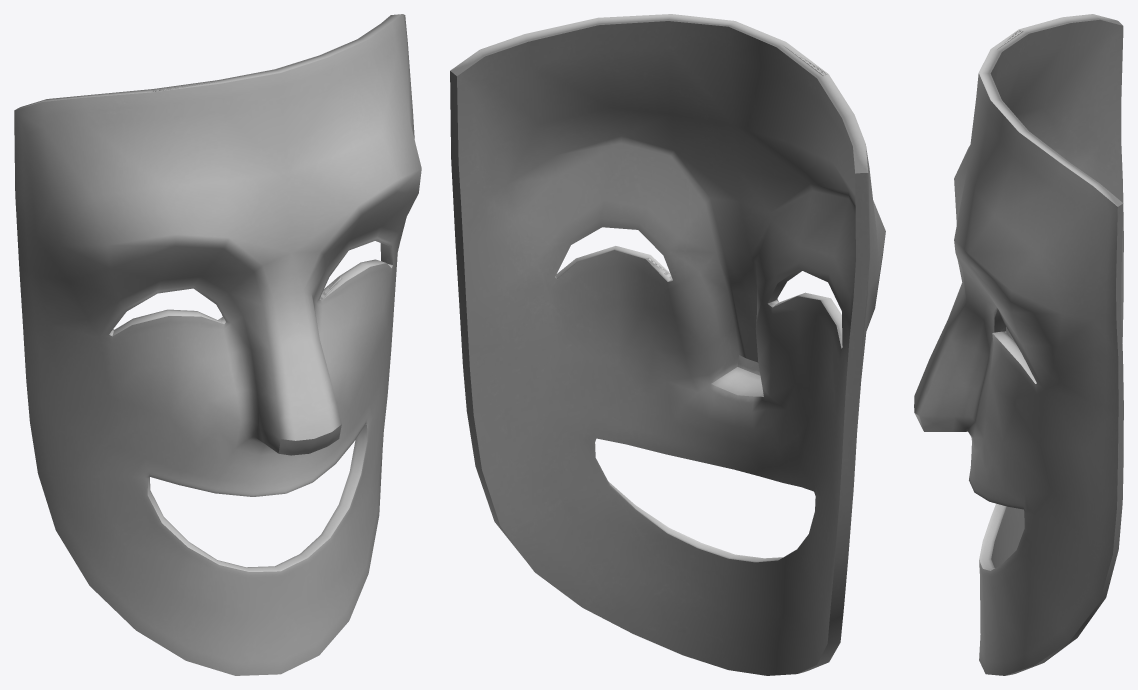
Rendered from CanbePossessedIndicator.fbx.
3 views of the same model, side by side, from view 1: azimuth 30°, elevation 25°; view 2: azimuth 150°, elevation 25°; view 3: azimuth 270°, elevation 25° (orthographic). The views are drawn at different scales.
Parts seen in each view (by area): view 1: CanbePossessedIndicator; view 2: CanbePossessedIndicator; view 3: CanbePossessedIndicator.
Part boxes in pixels (x1,y1,x2,y2): CanbePossessedIndicator: [14, 14, 421, 675]; CanbePossessedIndicator: [450, 14, 885, 675]; CanbePossessedIndicator: [914, 14, 1123, 675].
Bounding box in the file's own units: 27.4 × 40.32 × 13.04.
1 material, 1 textured.
